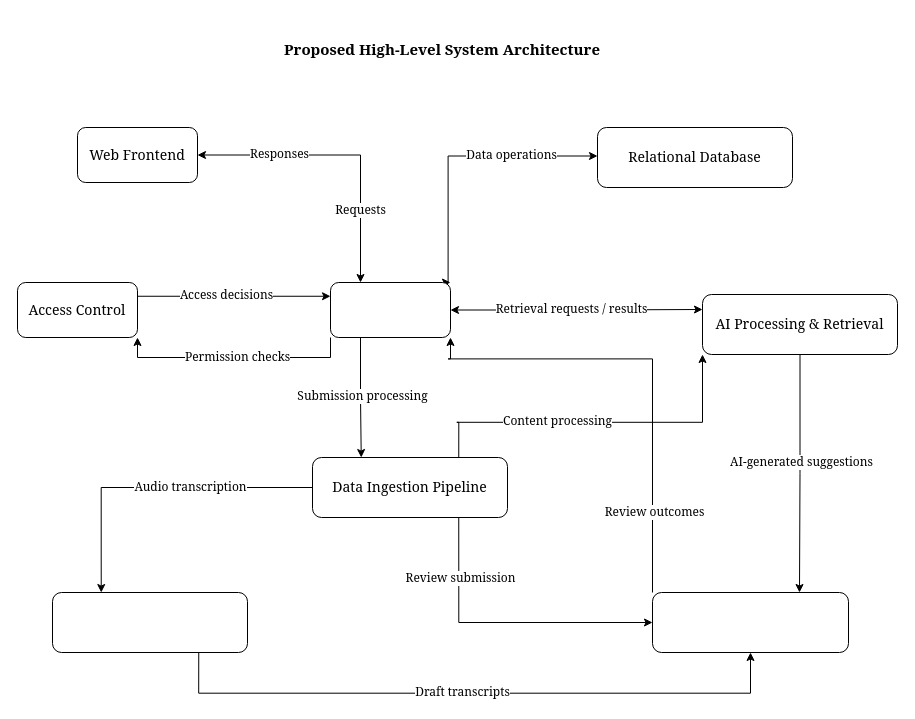
This 915x719 diagram has some shape labels left out. The centre of each missing label's shape, as x and y in pixels:
"Backend API" goes at (390,310).
"Quarantine & HITL Review" goes at (750,622).
"Speech-to-Text Processing" goes at (150,622).
